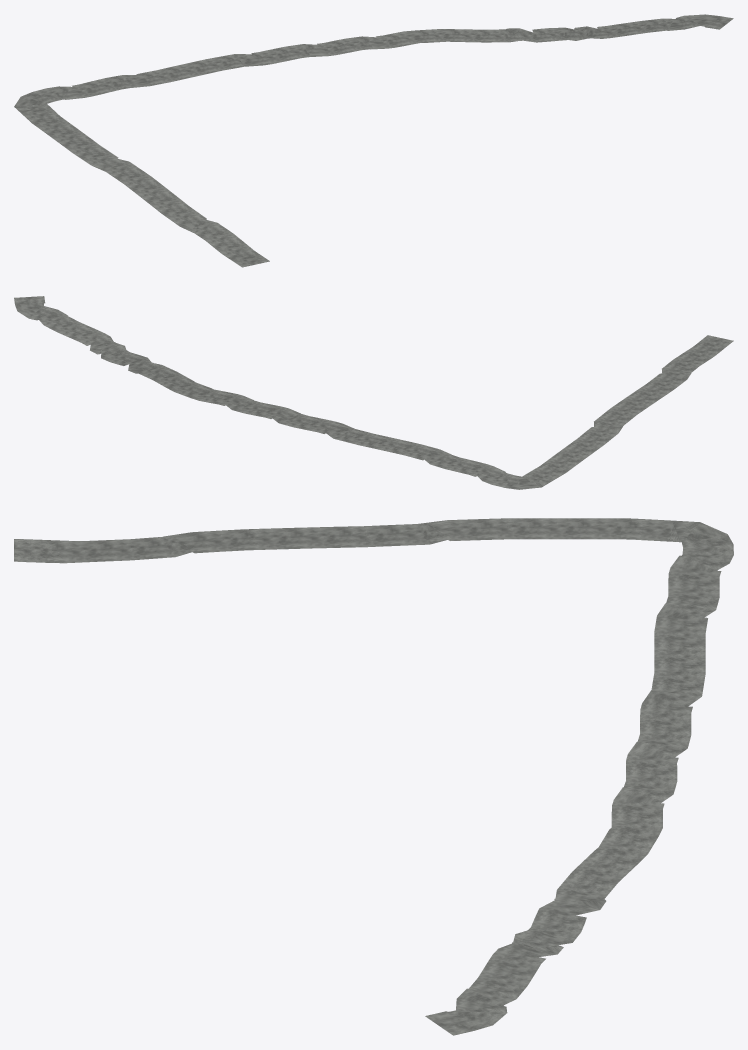
File: RD-ROAD-017.obj
The picture shows the model from 3 angles, top to bottom: view 1: azimuth 30°, elevation 25°; view 2: azimuth 150°, elevation 25°; view 3: azimuth 270°, elevation 25°; orthographic projection. The views are drawn at different scales.
Visible parts, largest first — view 1: RD-ROAD-017; view 2: RD-ROAD-017; view 3: RD-ROAD-017.
Part boxes in pixels (x1,y1,x2,y2): RD-ROAD-017: (14,14,733,267); RD-ROAD-017: (14,296,733,489); RD-ROAD-017: (14,518,733,1035).
Size of the model in its own units: 97.64 by 2.48 by 59.55.
1 material, 1 textured.
